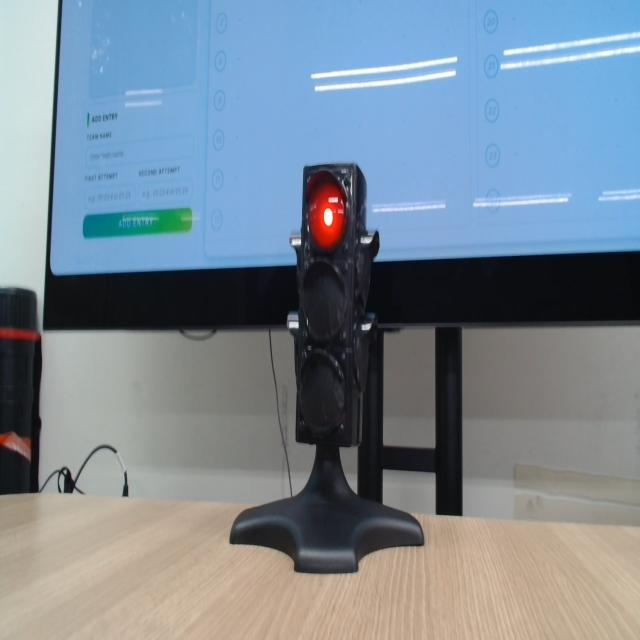red_light: (308, 179, 345, 250)
